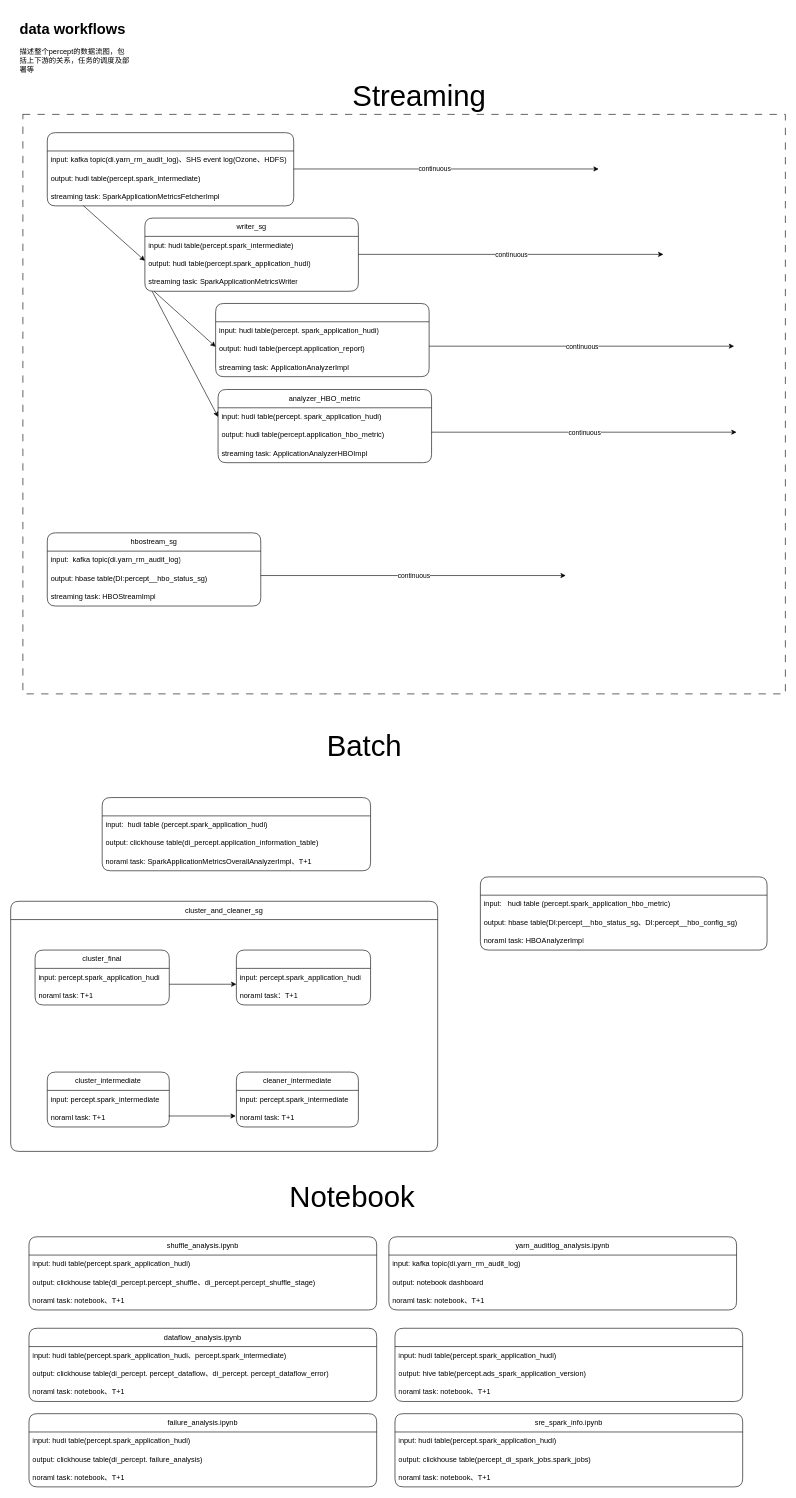
This 796x1498 diagram has some shape labels left out. The shapes that lost their labels are listed below. From the top down, each one's box as (x1, y1, x2, y2) in pixels, then its label:
(47, 132, 294, 206): fetcher_sg
(215, 303, 429, 377): analyzer_application_sg
(102, 797, 371, 871): analyzer_overall(analyzer_summary)
(480, 876, 767, 950): hbo_sg
(236, 949, 371, 1005): cleaner_final
(394, 1328, 743, 1401): spark_version_distribution.ipynb
